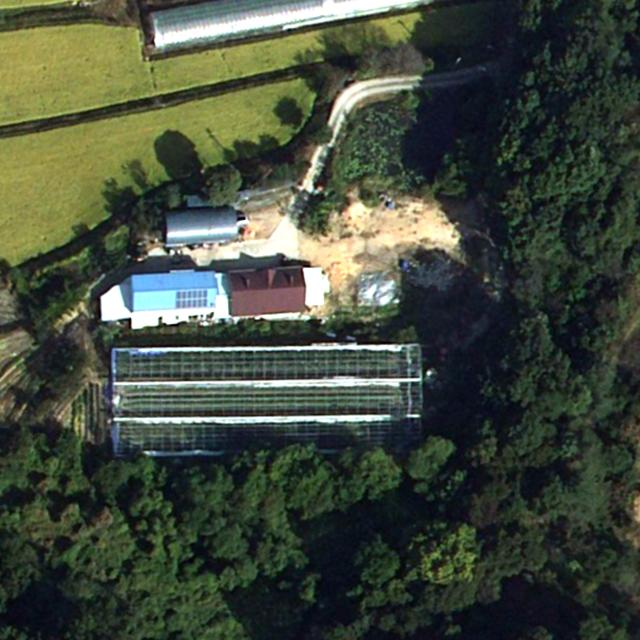solarpanel: (172, 288, 209, 309)
